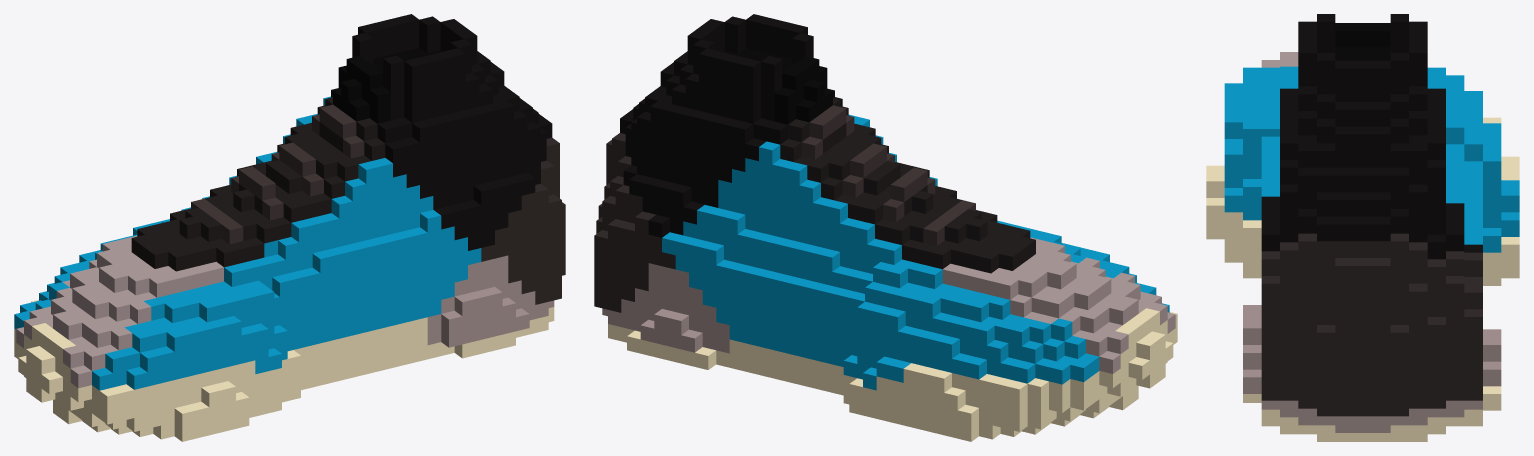
File: Rusted Haven.fbx
3 views of the same model, side by side, from view 1: azimuth 30°, elevation 25°; view 2: azimuth 150°, elevation 25°; view 3: azimuth 270°, elevation 25° (orthographic). The views are drawn at different scales.
Parts seen in each view (by area): view 1: Untitled; view 2: Untitled; view 3: Untitled.
Boxes of the visible parts, left/top/right/bottom form: Untitled: left=14, top=14, right=565, bottom=441; Untitled: left=594, top=14, right=1177, bottom=441; Untitled: left=1206, top=14, right=1519, bottom=441.
Size of the model in its own units: 390 by 200 by 170.
